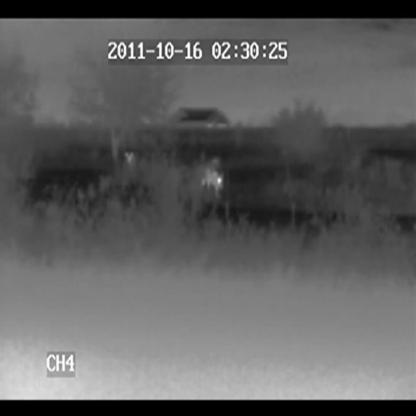rehkitze: (206, 171, 228, 200)
